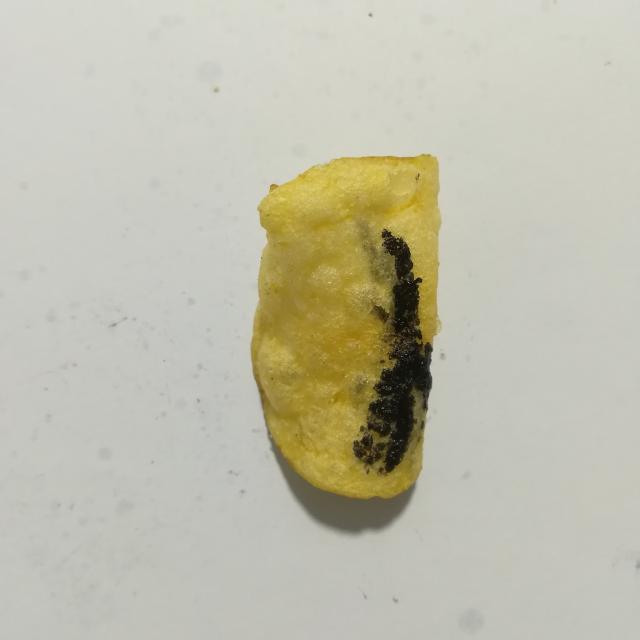chip: (251, 155, 441, 498)
damaged: (353, 229, 433, 474), (380, 359, 385, 363)
semi-damaged: (352, 220, 397, 317), (352, 372, 368, 399), (420, 420, 425, 429)
